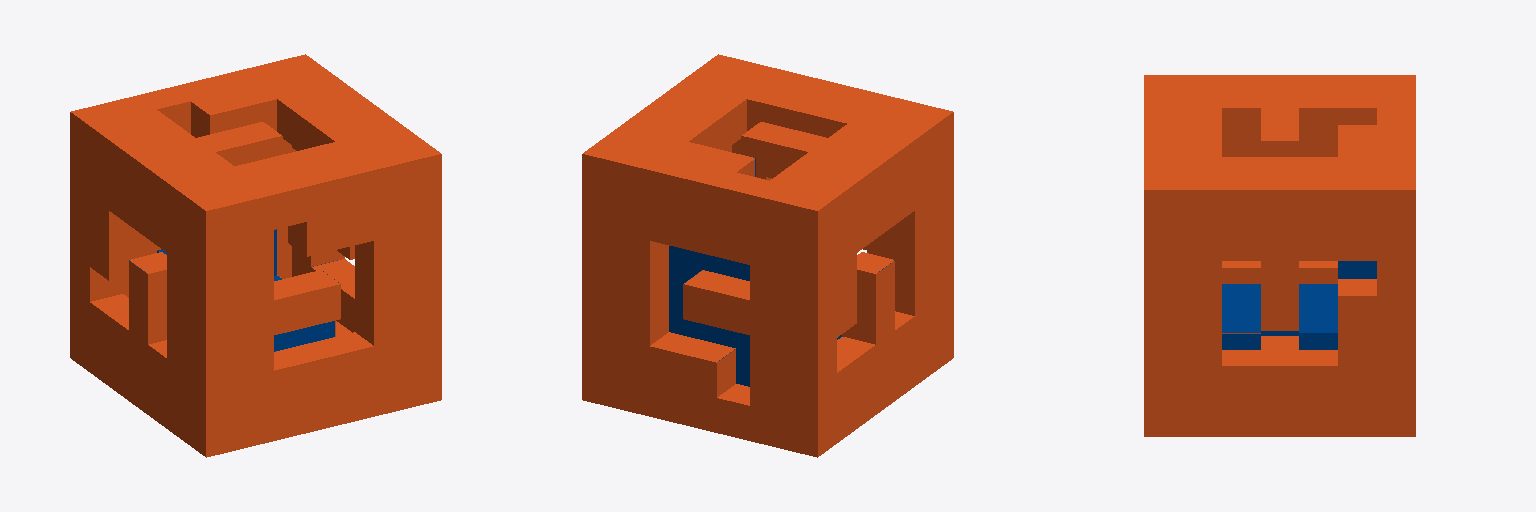
The picture shows the model from 3 angles: view 1: azimuth 30°, elevation 25°; view 2: azimuth 150°, elevation 25°; view 3: azimuth 270°, elevation 25°; orthographic projection.
Visible parts, largest first — view 1: blender-box-open_V02.001; view 2: blender-box-open_V02.001; view 3: blender-box-open_V02.001.
Boxes of the visible parts, <box> form: blender-box-open_V02.001: <box>70,54,441,457</box>; blender-box-open_V02.001: <box>582,54,953,457</box>; blender-box-open_V02.001: <box>1144,75,1415,436</box>.
Bounding box in the file's own units: 0.7 × 0.7 × 0.7.
1 materials, 1 textured.